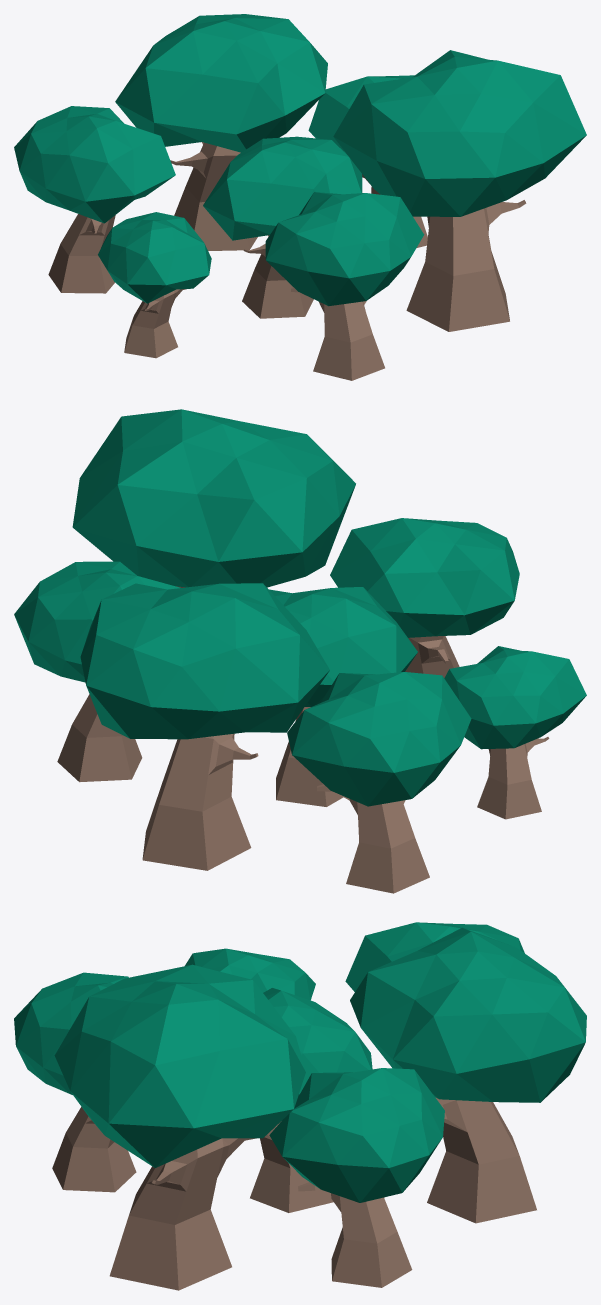
Rendered from tree_1.glb.
3 views of the same model, one above another, from view 1: azimuth 30°, elevation 25°; view 2: azimuth 150°, elevation 25°; view 3: azimuth 270°, elevation 25° (orthographic). The views are drawn at different scales.
Visible parts, largest first — view 1: tree; view 2: tree; view 3: tree.
Part boxes in pixels (x1=…): tree: x1=14, y1=14, x2=586, y2=380; tree: x1=14, y1=409, x2=586, y2=893; tree: x1=14, y1=922, x2=586, y2=1290.
Bounding box in the file's own units: 1.51 × 0.8116 × 1.49.
